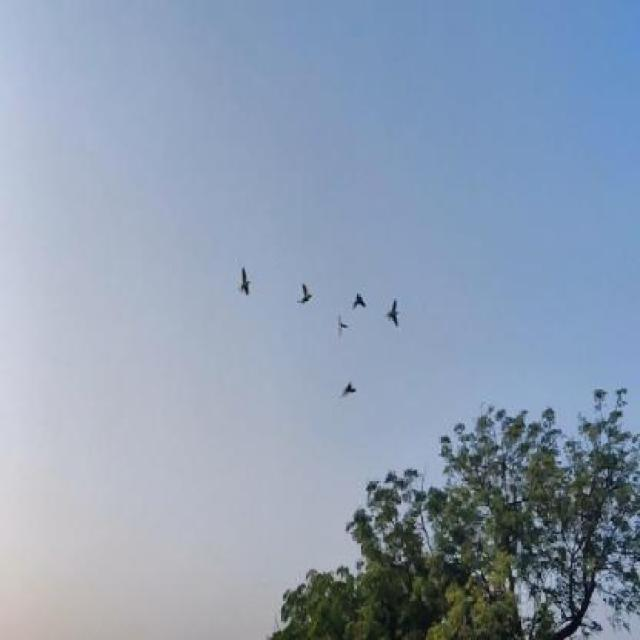bird: (382, 293, 402, 333), (294, 278, 314, 311), (236, 266, 252, 300), (348, 285, 367, 312), (337, 378, 358, 400), (335, 313, 351, 341)
